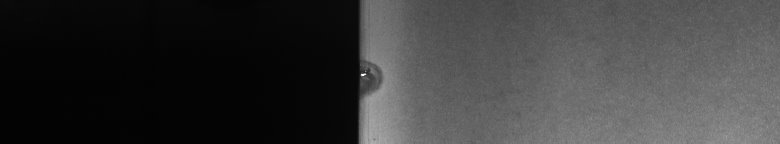hb: (368, 56, 389, 100)
